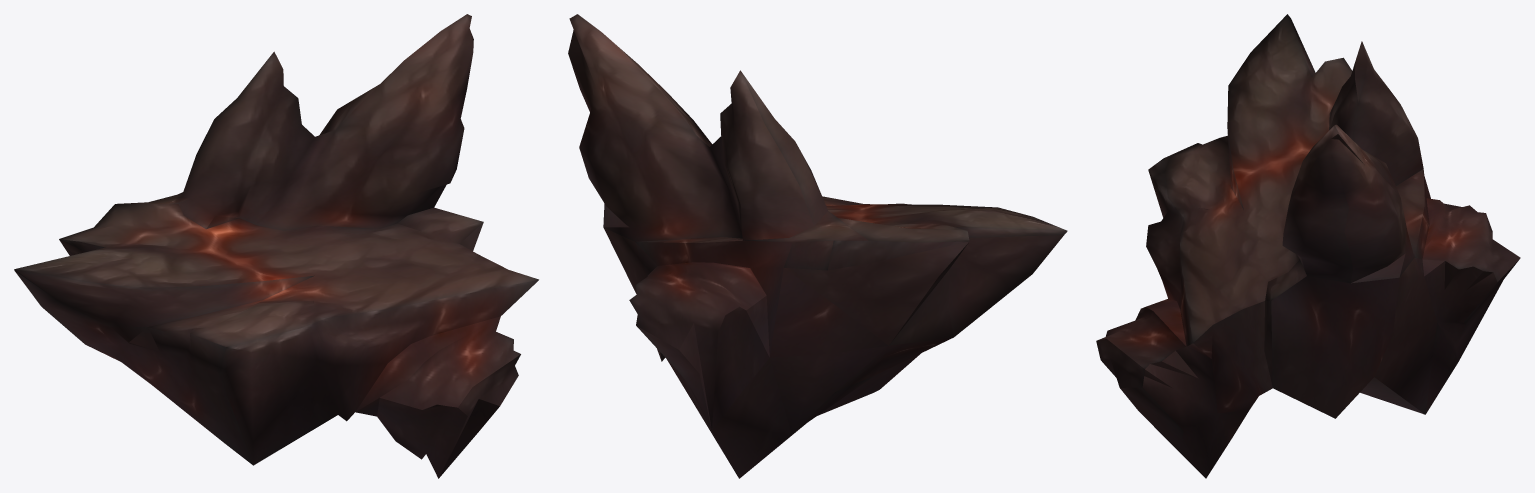
The model's file is 1005_Item_Stone_07.FBX.
3 views of the same model, side by side, from view 1: azimuth 30°, elevation 25°; view 2: azimuth 150°, elevation 25°; view 3: azimuth 270°, elevation 25° (orthographic). The views are drawn at different scales.
Visible parts, largest first — view 1: 1005_Item_Stone_07; view 2: 1005_Item_Stone_07; view 3: 1005_Item_Stone_07.
Boxes of the visible parts, x1,y1,x2,y2 form: 1005_Item_Stone_07: [14, 14, 538, 478]; 1005_Item_Stone_07: [568, 14, 1067, 478]; 1005_Item_Stone_07: [1096, 14, 1520, 478].
Bounding box in the file's own units: 10391 × 8140 × 7851.
